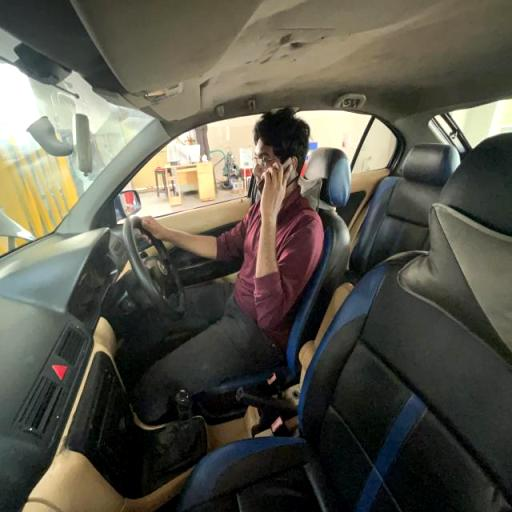Talking_on_phone: (142, 109, 323, 325)
